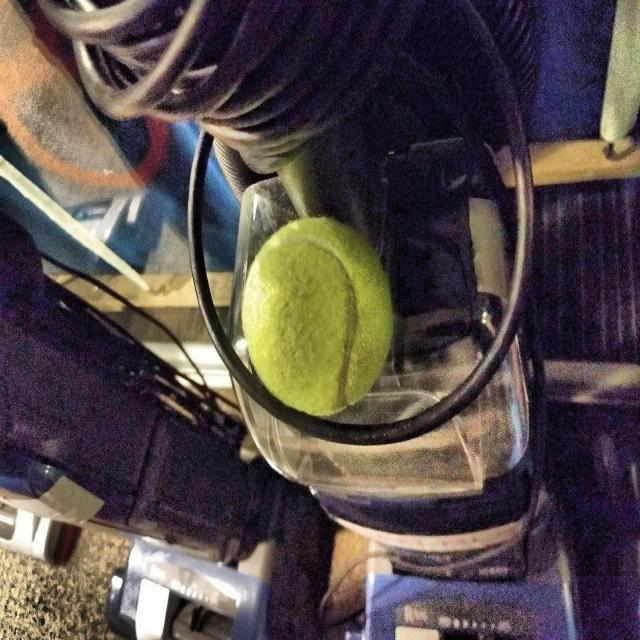tennis-ball: (239, 217, 399, 417)
